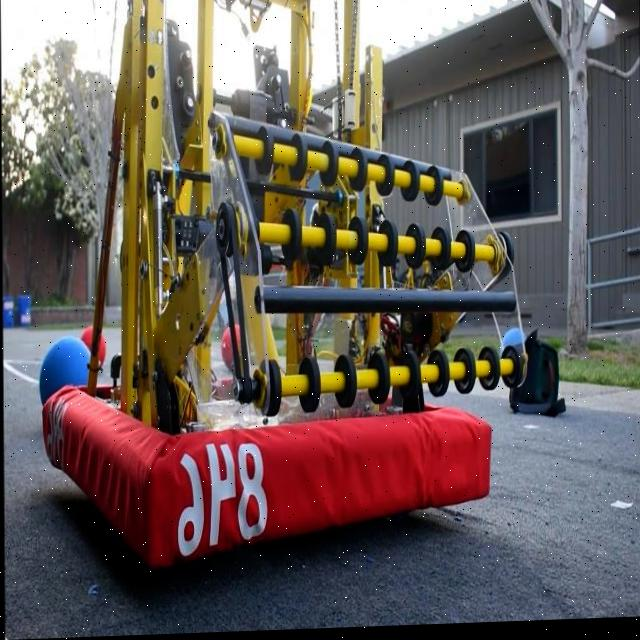robot: (33, 0, 528, 587)
